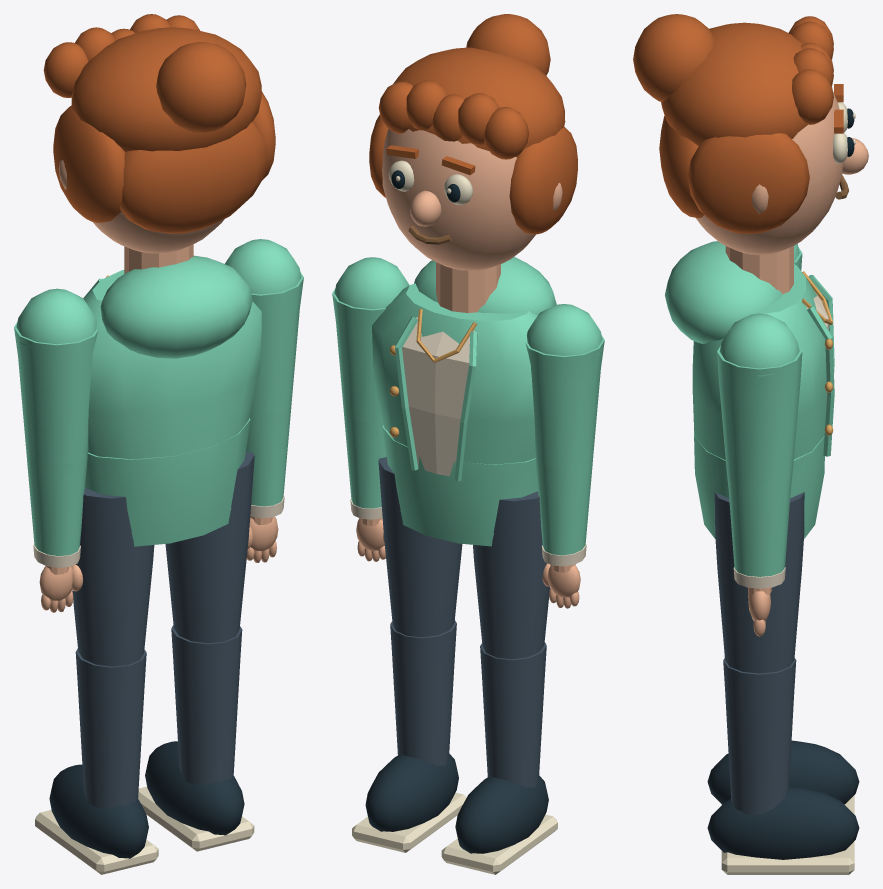
File: mira.glb
3 views of the same model, side by side, from view 1: azimuth 30°, elevation 25°; view 2: azimuth 150°, elevation 25°; view 3: azimuth 270°, elevation 25° (orthographic). The views are drawn at different scales.
Parts seen in each view (by area): view 1: Release3D_mira_Brow-1, Release3D_mira_CardiganEdge-1, Release3D_mira_LeftShoulder, Release3D_mira_Hem, Release3D_mira_LeftTrouser, Release3D_mira_RightTrouser, Release3D_mira_LeftCalf, Release3D_mira_RightCalf, Release3D_mira_RightShoulder, Release3D_mira_LeftShoe, Release3D_mira_RightShoe, Release3D_mira_LeftElbow (+8 smaller); view 2: Release3D_mira_Brow-1, Release3D_mira_CardiganEdge-1, Release3D_mira_Ear-1, Release3D_mira_LeftShoulder, Release3D_mira_LeftTrouser, Release3D_mira_Hem, Release3D_mira_RightTrouser, Release3D_mira_LeftCalf, Release3D_mira_RightCalf, Release3D_mira_InnerShirt, Release3D_mira_RightShoulder, Release3D_mira_LeftShoe (+10 smaller); view 3: Release3D_mira_Brow-1, Release3D_mira_CardiganEdge-1, Release3D_mira_RightShoulder, Release3D_mira_RightCalf, Release3D_mira_RightTrouser, Release3D_mira_RightShoe, Release3D_mira_Ear-1, Release3D_mira_RightElbow, Release3D_mira_Hem, Release3D_mira_LeftShoe, Release3D_mira_RightSole, Release3D_mira_Neck (+3 smaller).
Part boxes in pixels (x1,y1,x2,y2): Release3D_mira_Brow-1: (43,14,275,233); Release3D_mira_CardiganEdge-1: (83,255,261,459); Release3D_mira_LeftShoulder: (14,288,98,464); Release3D_mira_Hem: (85,418,250,546); Release3D_mira_LeftTrouser: (72,488,154,666); Release3D_mira_RightTrouser: (165,451,254,643); Release3D_mira_LeftCalf: (75,648,146,808); Release3D_mira_RightCalf: (171,625,242,785); Release3D_mira_RightShoulder: (225,239,303,414); Release3D_mira_LeftShoe: (49,764,148,858); Release3D_mira_RightShoe: (145,741,244,835); Release3D_mira_LeftElbow: (26,451,87,556); Release3D_mira_Brow-1: (369,14,577,234); Release3D_mira_CardiganEdge-1: (372,256,556,481); Release3D_mira_Ear-1: (382,129,562,270); Release3D_mira_LeftShoulder: (525,304,604,469); Release3D_mira_LeftTrouser: (473,491,549,659); Release3D_mira_Hem: (382,425,537,546); Release3D_mira_RightTrouser: (378,457,462,637); Release3D_mira_LeftCalf: (480,642,546,787); Release3D_mira_RightCalf: (390,620,456,765); Release3D_mira_InnerShirt: (402,317,475,476); Release3D_mira_RightShoulder: (332,257,409,422); Release3D_mira_LeftShoe: (455,775,548,853); Release3D_mira_Brow-1: (633,14,843,233); Release3D_mira_CardiganEdge-1: (665,241,834,459); Release3D_mira_RightShoulder: (717,313,802,486); Release3D_mira_RightCalf: (723,658,796,814); Release3D_mira_RightTrouser: (714,492,804,673); Release3D_mira_RightShoe: (707,786,859,859); Release3D_mira_Ear-1: (696,91,868,254); Release3D_mira_RightElbow: (727,474,792,576); Release3D_mira_Hem: (694,431,824,538); Release3D_mira_LeftShoe: (707,740,859,804); Release3D_mira_RightSole: (721,841,854,874); Release3D_mira_Neck: (725,246,793,294).
Bounding box in the file's own units: 0.67 × 1.92 × 0.4968.
